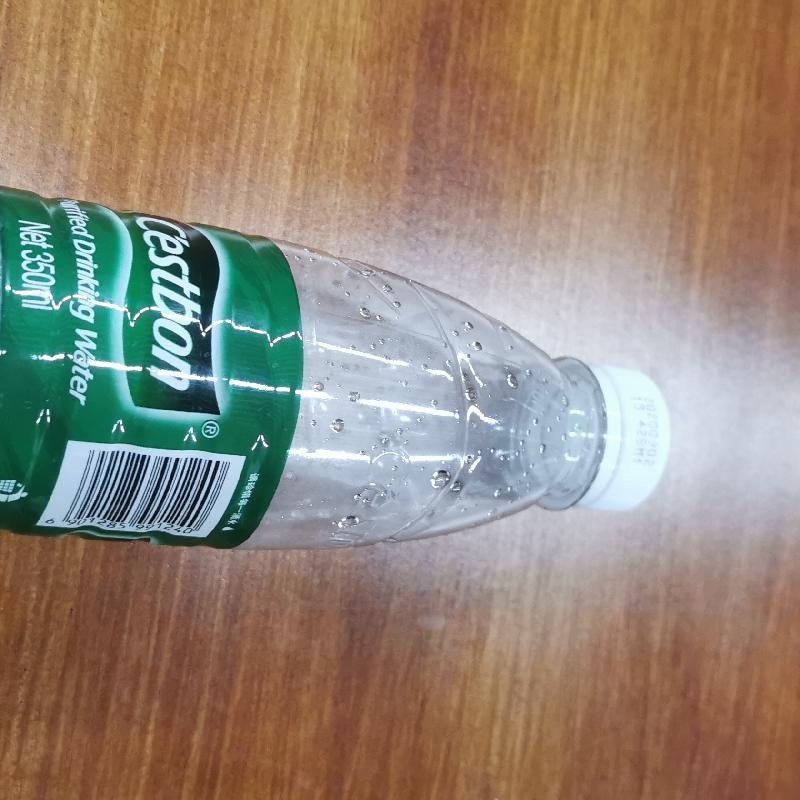bottles: (3, 177, 671, 557)
